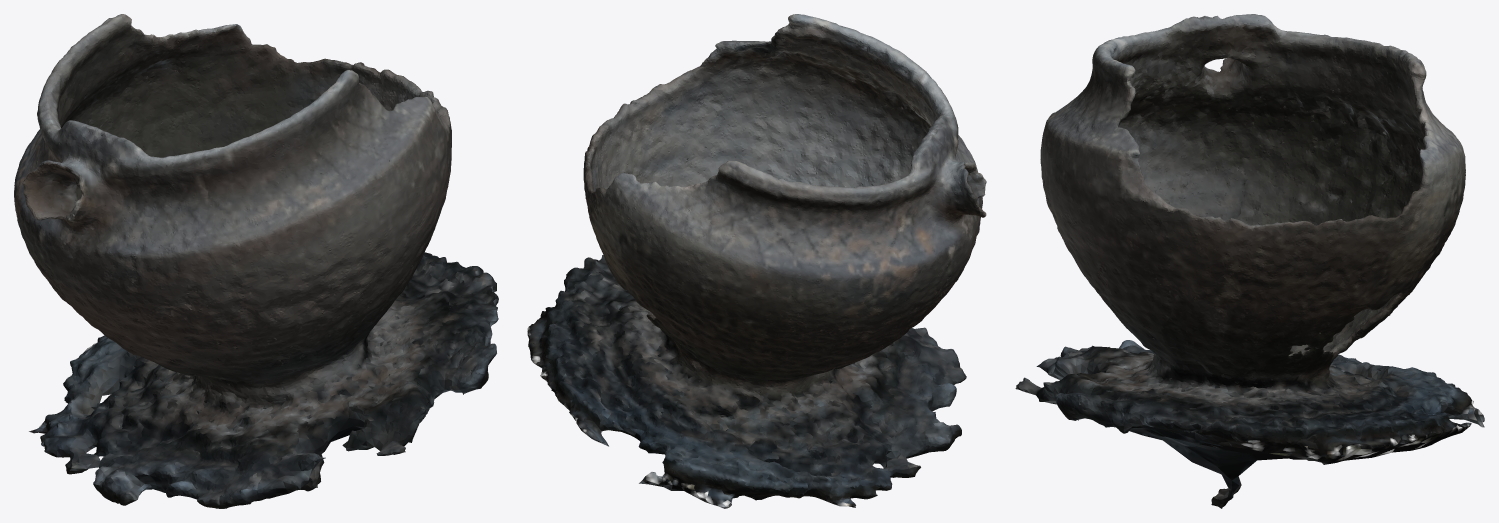
File: BlackJarDamaged.fbx
The picture shows the model from 3 angles, left to right: view 1: azimuth 30°, elevation 25°; view 2: azimuth 150°, elevation 25°; view 3: azimuth 270°, elevation 25°; orthographic projection. The views are drawn at different scales.
Parts seen in each view (by area): view 1: BlackJarDamaged; view 2: BlackJarDamaged; view 3: BlackJarDamaged.
Boxes of the visible parts, x1,y1,x2,y2 form: BlackJarDamaged: (14, 14, 498, 508); BlackJarDamaged: (527, 14, 986, 508); BlackJarDamaged: (1015, 14, 1484, 508).
Bounding box in the file's own units: 1.02 × 0.9706 × 0.9454.
Materials: 1 (1 with a texture image).
